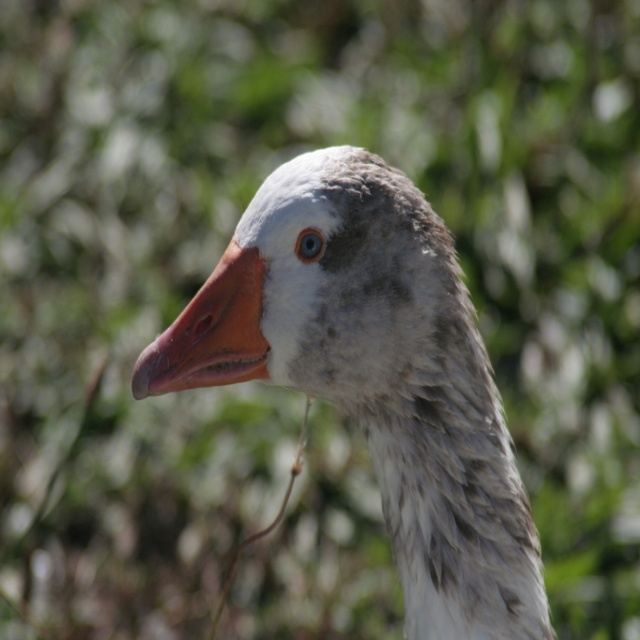Duck: (132, 152, 575, 640)
